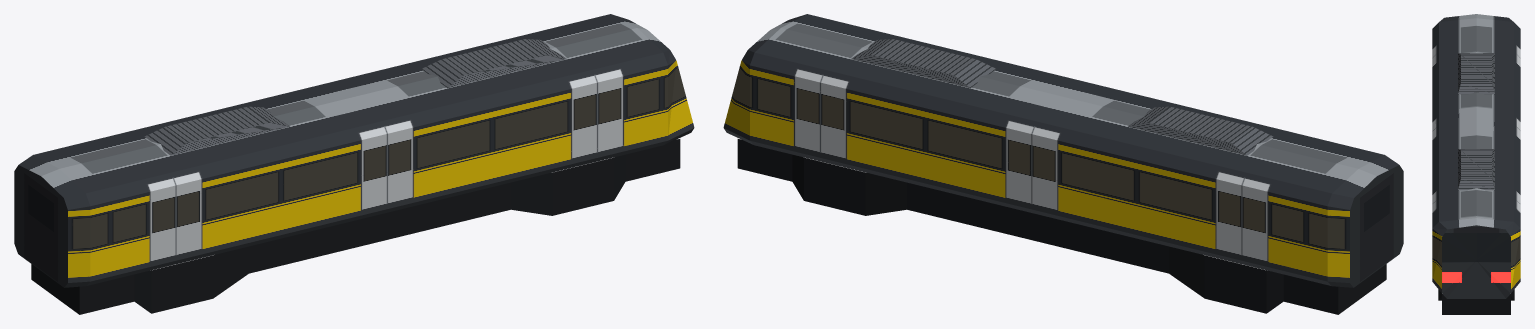
File: bvg_grossprofil__tail.glb
The picture shows the model from 3 angles, left to right: view 1: azimuth 30°, elevation 25°; view 2: azimuth 150°, elevation 25°; view 3: azimuth 270°, elevation 25°; orthographic projection. The views are drawn at different scales.
Visible parts, largest first — view 1: bvg_grossprofil__tail; view 2: bvg_grossprofil__tail; view 3: bvg_grossprofil__tail.
Part boxes in pixels (x1,y1,x2,y2): bvg_grossprofil__tail: (14, 14, 694, 314); bvg_grossprofil__tail: (723, 14, 1403, 314); bvg_grossprofil__tail: (1432, 14, 1520, 314).
Bounding box in the file's own units: 15.5 × 3.45 × 2.65.
Materials: 1 (1 with a texture image).
